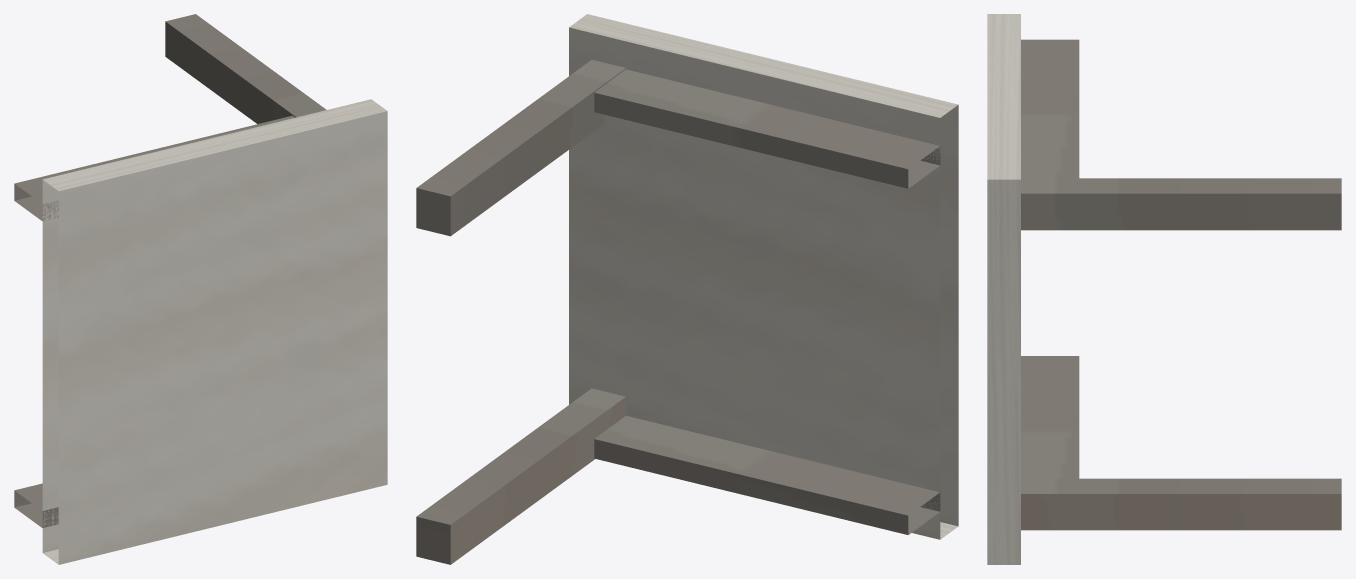
File: pz_table_tables_high_01_large_white_1_0.obj
3 renders of one model, left to right at view 1: azimuth 30°, elevation 25°; view 2: azimuth 150°, elevation 25°; view 3: azimuth 270°, elevation 25°, orthographic. The views are drawn at different scales.
Size of the model in its own units: 0.875 by 0.95 by 0.791.
Materials: 1 (1 with a texture image).
